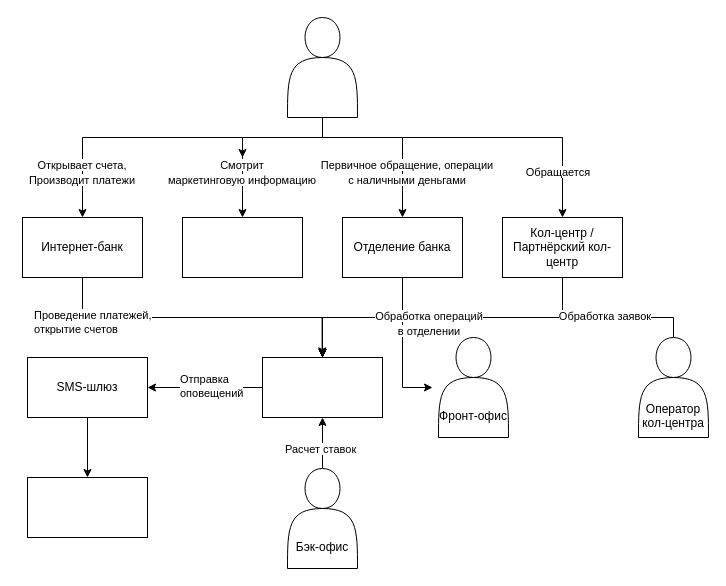
The diagram is 726 pixels wide and 586 high, and some of its shapes have lost their labels. Here are the shapes that lost their labels. From the top down, the centre of each, then its label:
the point at 322,67: Клиент
the point at 242,247: Сайт
the point at 322,387: АБС
the point at 87,507: Телеком оператор (отправка SMS)
